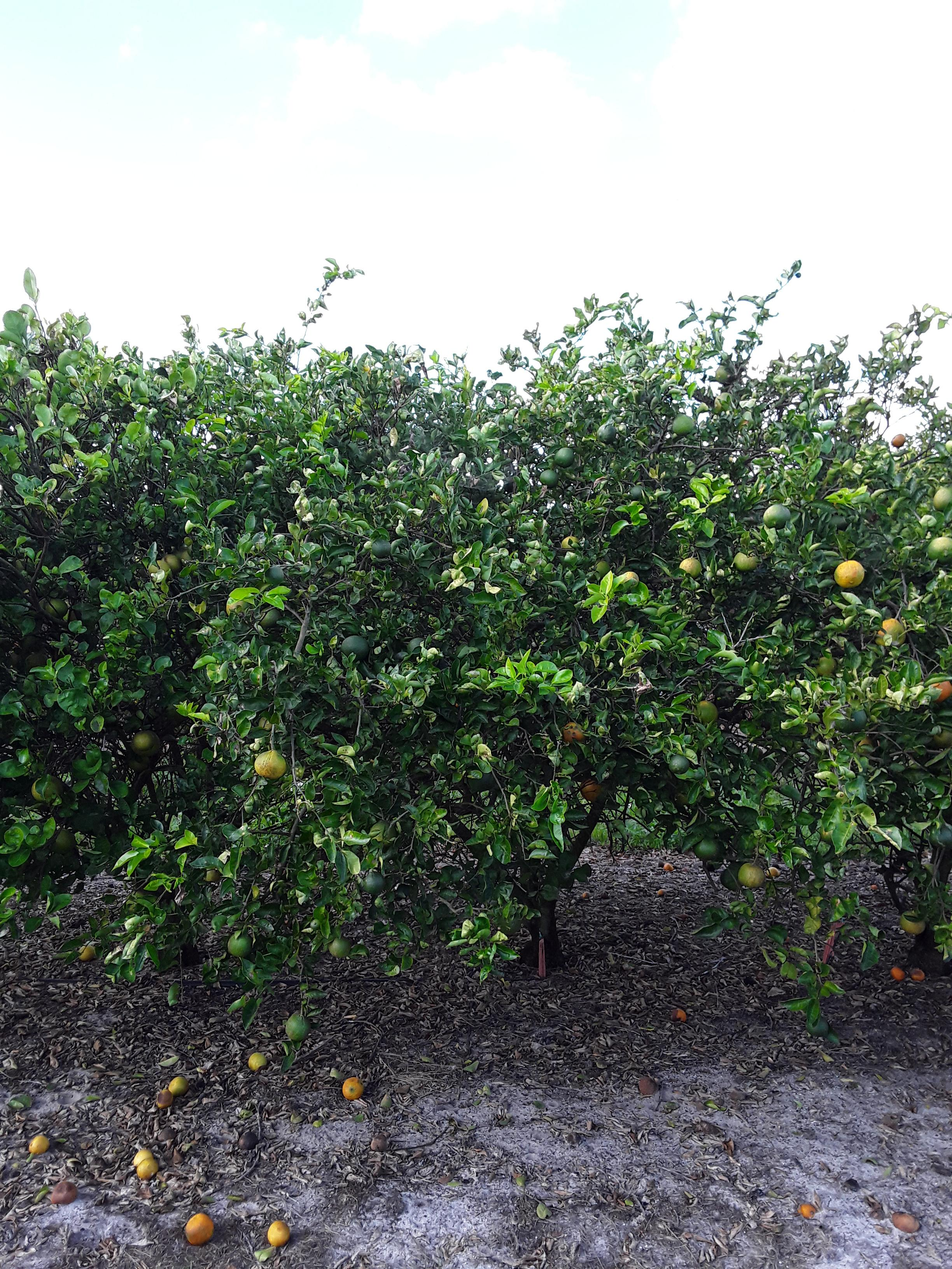fruit_on_ground: (832, 557, 867, 591), (29, 772, 65, 805), (873, 615, 908, 648), (253, 748, 288, 781), (282, 1010, 313, 1043), (224, 929, 255, 960), (130, 729, 162, 759), (761, 501, 793, 530), (338, 633, 372, 660), (49, 825, 79, 854), (691, 697, 720, 727), (366, 819, 397, 847), (924, 533, 952, 564), (736, 861, 765, 890), (224, 592, 255, 619), (898, 908, 927, 936), (924, 676, 952, 704), (359, 869, 388, 896), (559, 719, 588, 746), (925, 822, 952, 850), (41, 596, 70, 622), (693, 836, 722, 862), (731, 549, 761, 574), (719, 865, 746, 892), (676, 554, 704, 580), (10, 556, 38, 582), (812, 653, 838, 680), (326, 934, 353, 960), (669, 413, 696, 439), (578, 779, 606, 804), (257, 605, 283, 631), (261, 563, 288, 588), (552, 446, 579, 471), (930, 484, 952, 514), (158, 551, 183, 576), (369, 536, 394, 561), (665, 752, 692, 775), (829, 712, 857, 734), (595, 421, 619, 446), (537, 465, 562, 489), (144, 557, 170, 580), (130, 729, 156, 752), (712, 390, 737, 413), (617, 567, 642, 590), (929, 726, 952, 750), (847, 707, 870, 729), (202, 863, 225, 885), (714, 362, 736, 384), (806, 1018, 829, 1038), (559, 532, 581, 552), (626, 483, 647, 502), (592, 557, 612, 576), (890, 432, 908, 449)
fruit_on_tree: (183, 1211, 216, 1247), (264, 1218, 292, 1248), (50, 1178, 79, 1206), (890, 1210, 920, 1234), (341, 1075, 365, 1101), (27, 1131, 51, 1156), (135, 1157, 160, 1181), (636, 1073, 660, 1097), (167, 1073, 191, 1097), (245, 1050, 270, 1073), (75, 941, 99, 964), (131, 1148, 155, 1169), (238, 1130, 260, 1152), (154, 1088, 175, 1109), (368, 1133, 389, 1154), (156, 1125, 178, 1144), (796, 1201, 817, 1220), (670, 1005, 689, 1023), (765, 862, 782, 879), (889, 964, 906, 981), (908, 966, 926, 982), (662, 861, 676, 872), (656, 886, 668, 897), (579, 890, 592, 900), (869, 882, 880, 892)
